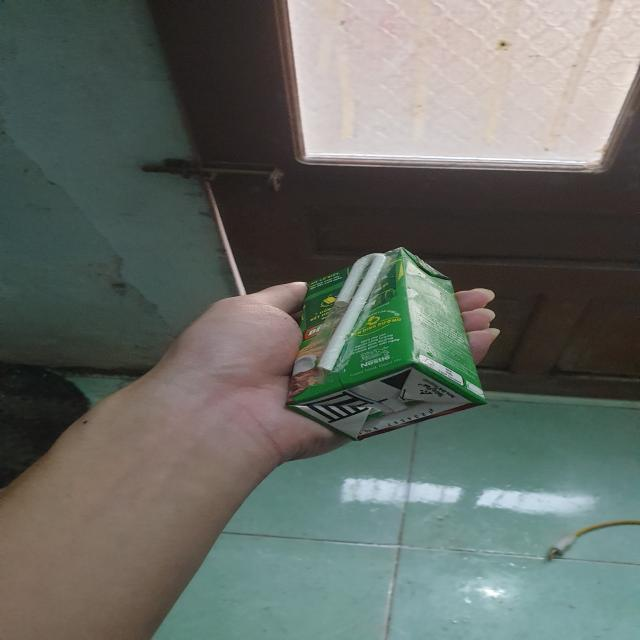Milo: (286, 249, 482, 442)
